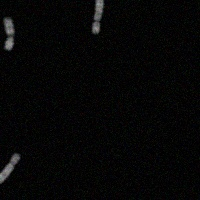chromosome: (0, 154, 20, 184), (3, 17, 14, 50), (93, 0, 103, 34)
